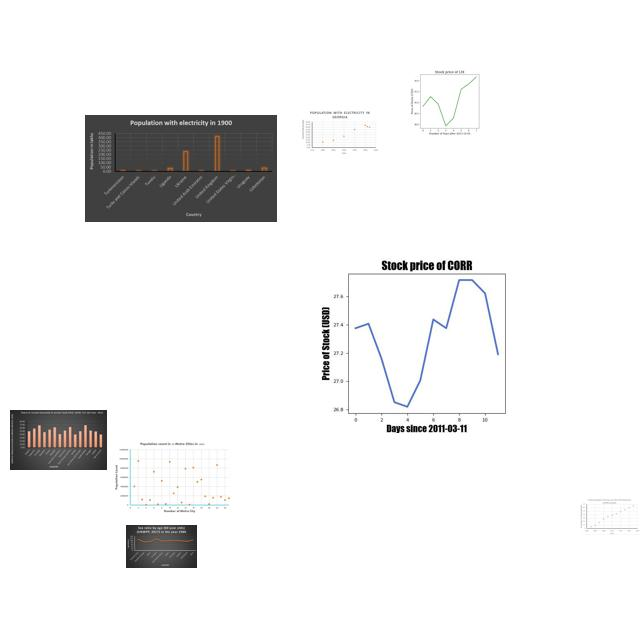Graph: (292, 252, 555, 433), (85, 115, 277, 222), (113, 441, 231, 514), (402, 66, 495, 136), (10, 410, 107, 470), (300, 109, 380, 157), (126, 525, 197, 568), (579, 498, 640, 535)
